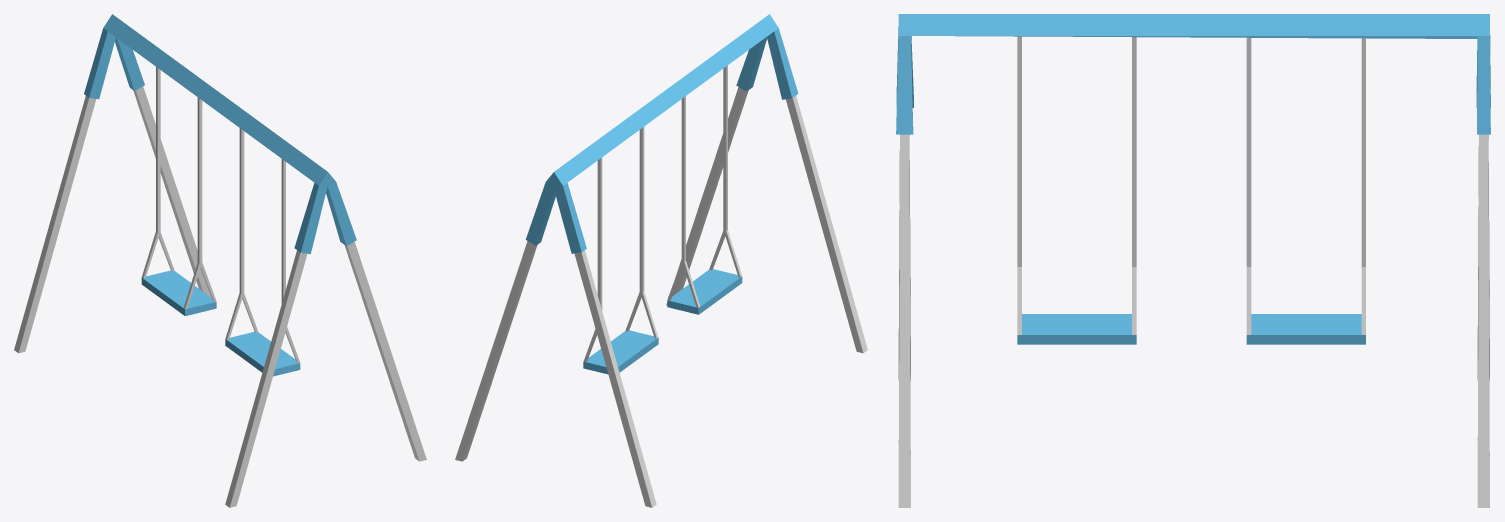
File: play_405.glb
3 views of the same model, side by side, from view 1: azimuth 30°, elevation 25°; view 2: azimuth 150°, elevation 25°; view 3: azimuth 270°, elevation 25° (orthographic). The views are drawn at different scales.
Visible parts, largest first — view 1: play_405; view 2: play_405; view 3: play_405.
Part boxes in pixels (x1,y1,x2,y2): play_405: [14, 14, 426, 507]; play_405: [455, 14, 867, 507]; play_405: [896, 14, 1490, 507].
Size of the model in its own units: 1.46 by 2.2 by 2.77.
Materials: 1 (1 with a texture image).
